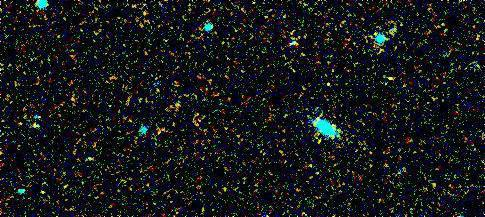star: (373, 63, 403, 93)
